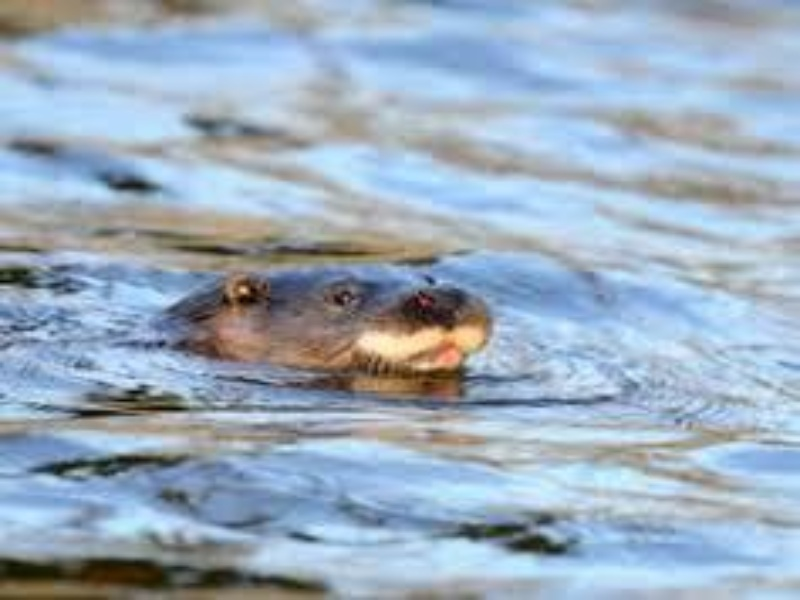minkish: (188, 253, 497, 379)
